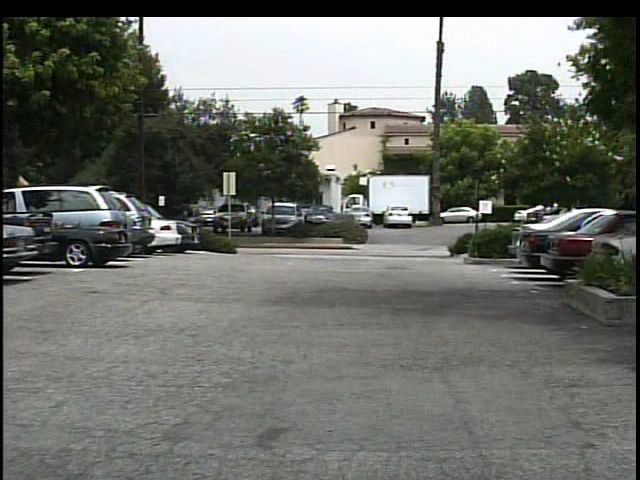person: (175, 206, 195, 244)
